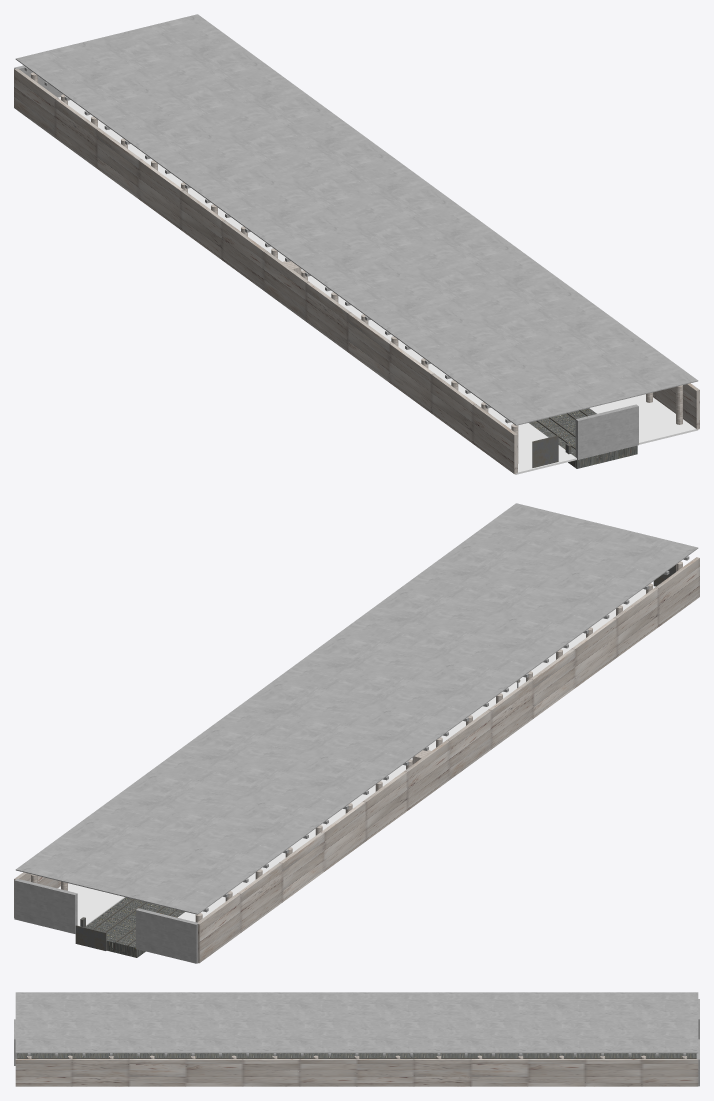
The model's file is anden_baquedano_estacion.glb.
The picture shows the model from 3 angles, top to bottom: view 1: azimuth 30°, elevation 25°; view 2: azimuth 150°, elevation 25°; view 3: azimuth 270°, elevation 25°; orthographic projection. The views are drawn at different scales.
Parts seen in each view (by area): view 1: Techo_Panel, Muro_Lateral_AndenA_Exterior, Piso_Anden_A, Muro_Norte_Vias, Piso_Anden_B, Foso_Vias, Muro_Lateral_AndenB_Exterior, Reja_Escalera_Norte; view 2: Techo_Panel, Muro_Lateral_AndenA_Exterior, Muro_Sur_AndenB, Piso_Anden_A, Muro_Sur_AndenA, Foso_Vias, Piso_Anden_B; view 3: Techo_Panel, Muro_Lateral_AndenB_Exterior, Foso_Vias, Riel_Via2_A.
Boxes of the visible parts, left/top/right/bottom form: Techo_Panel: left=15, top=14, right=698, bottom=425; Muro_Lateral_AndenA_Exterior: left=14, top=68, right=517, bottom=474; Piso_Anden_A: left=58, top=97, right=576, bottom=474; Muro_Norte_Vias: left=575, top=404, right=638, bottom=459; Piso_Anden_B: left=588, top=394, right=697, bottom=444; Foso_Vias: left=529, top=408, right=637, bottom=468; Muro_Lateral_AndenB_Exterior: left=653, top=383, right=699, bottom=429; Reja_Escalera_Norte: left=532, top=435, right=558, bottom=467; Techo_Panel: left=15, top=503, right=698, bottom=914; Muro_Lateral_AndenA_Exterior: left=196, top=557, right=699, bottom=963; Muro_Sur_AndenB: left=14, top=878, right=77, bottom=933; Piso_Anden_A: left=178, top=584, right=655, bottom=963; Muro_Sur_AndenA: left=136, top=908, right=198, bottom=963; Foso_Vias: left=85, top=897, right=184, bottom=957; Piso_Anden_B: left=58, top=883, right=125, bottom=925; Techo_Panel: left=15, top=992, right=698, bottom=1053; Muro_Lateral_AndenB_Exterior: left=15, top=1059, right=698, bottom=1086; Foso_Vias: left=17, top=1053, right=696, bottom=1057; Riel_Via2_A: left=17, top=1058, right=696, bottom=1058.
Bounding box in the file's own units: 21.4 × 6.5 × 100.
Materials: 22 (8 with a texture image).
